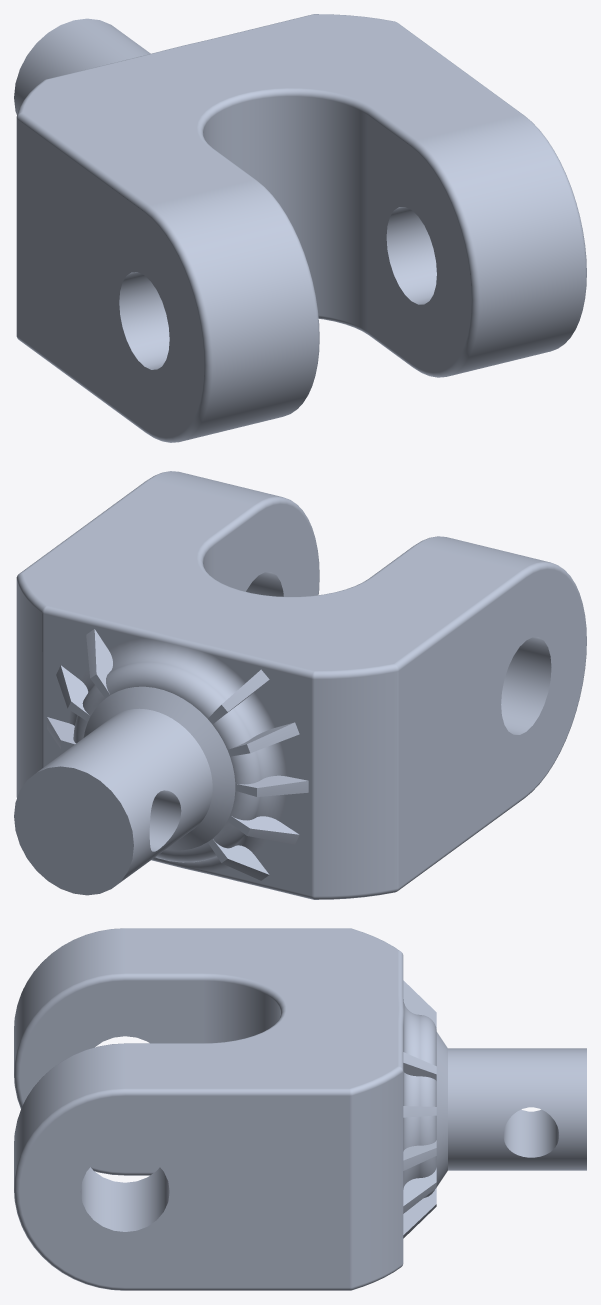
The model's file is zaynclevis2.glb.
The picture shows the model from 3 angles, top to bottom: view 1: azimuth 30°, elevation 25°; view 2: azimuth 150°, elevation 25°; view 3: azimuth 270°, elevation 25°; orthographic projection. The views are drawn at different scales.
Visible parts, largest first — view 1: zaynclevis(2); view 2: zaynclevis(2); view 3: zaynclevis(2).
Part boxes in pixels (x1=…): zaynclevis(2): x1=14, y1=14, x2=586, y2=442; zaynclevis(2): x1=14, y1=471, x2=586, y2=899; zaynclevis(2): x1=14, y1=928, x2=586, y2=1290.
Bounding box in the file's own units: 0.035 × 0.02 × 0.0515.
